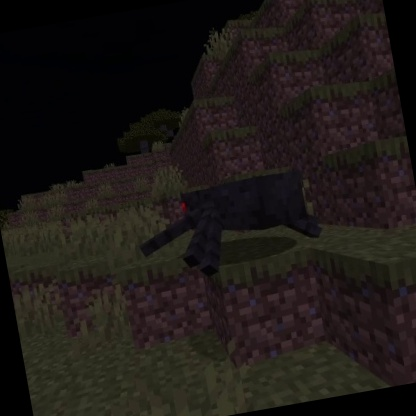spider: (128, 163, 333, 293)
